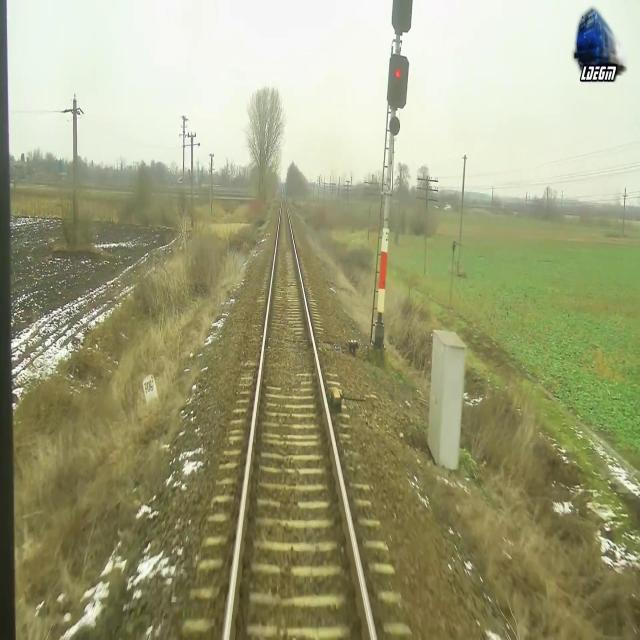rail-track: (227, 194, 371, 639)
